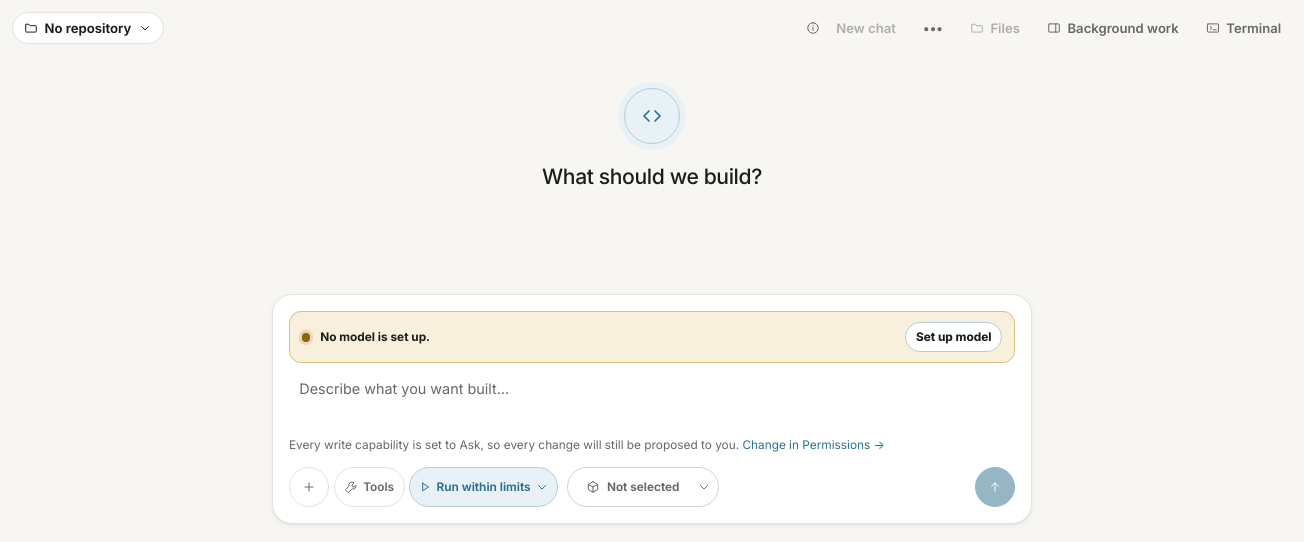
BuildView mode explanation › explains Plan, Edit and Auto inside the mode picker and nowhere else
This screenshot has width=1304, height=542.
Check: the text "Research and propose. No changes." is not shown
Click the button with aria-label "How much Raiker may do this turn:" at (484, 487), box x1=410 y1=467 x2=558 y2=507
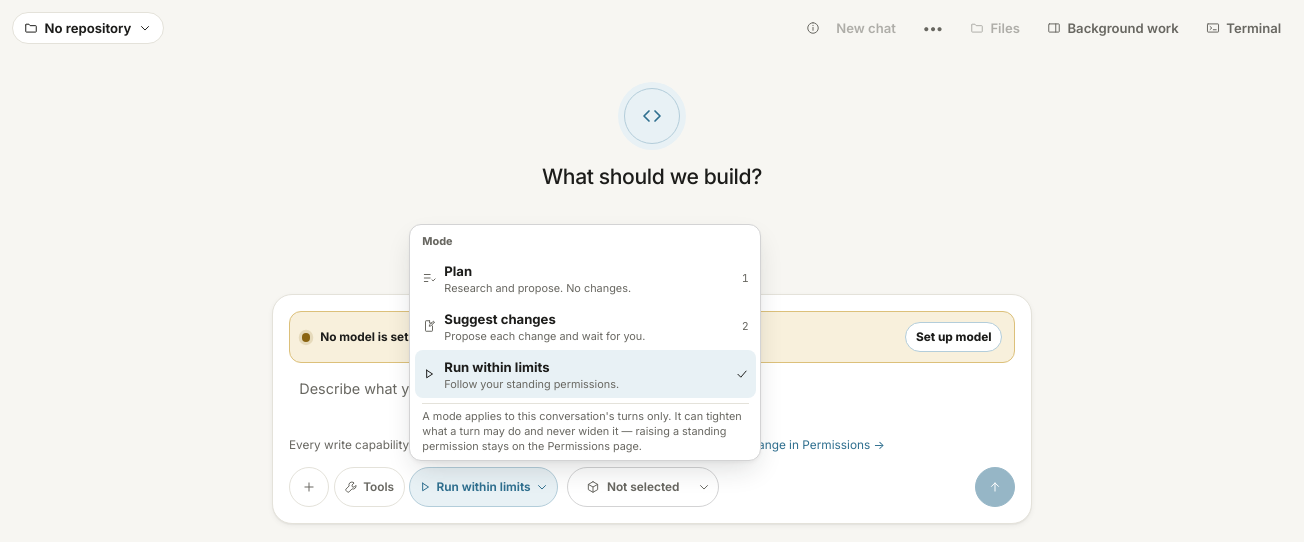
Check: the menu "Mode" shows "Research and propose. No changes.", box x1=415 y1=254 x2=756 y2=302
Check: the menu "Mode" shows "Propose each change and wait for you.", box x1=415 y1=302 x2=756 y2=350
Check: the menu "Mode" shows "Follow your standing permissions.", box x1=415 y1=350 x2=756 y2=398
